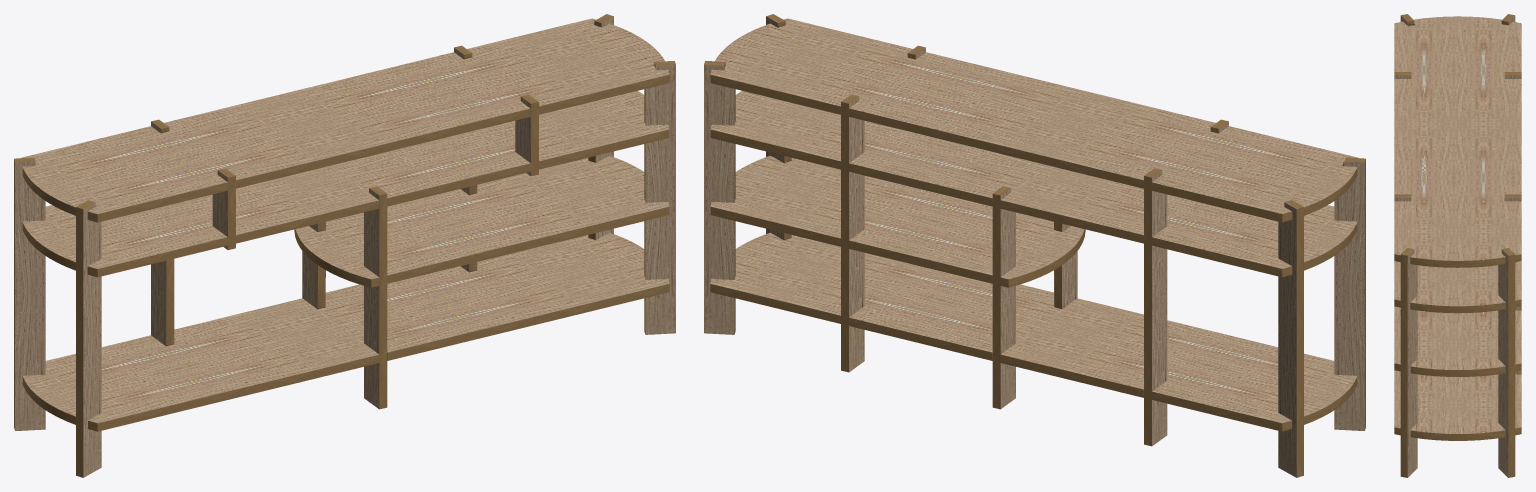
File: NODO_RACK_PARAISO_V2.glb
3 views of the same model, side by side, from view 1: azimuth 30°, elevation 25°; view 2: azimuth 150°, elevation 25°; view 3: azimuth 270°, elevation 25° (orthographic). The views are drawn at different scales.
Parts seen in each view (by area): view 1: A_KIRI, C_KIRI, B_KIRI, D_KIRI, G_right_front_KIRI, F_left_rear_KIRI, F_left_front_KIRI, H_front_KIRI, F_rear_KIRI, E_front_R_KIRI, E_front_L_KIRI, H_rear_KIRI; view 2: A_KIRI, C_KIRI, B_KIRI, D_KIRI, G_right_rear_KIRI, F_left_front_KIRI, F_left_rear_KIRI, F_rear_KIRI, G_rear_KIRI, H_rear_KIRI, H_front_KIRI; view 3: A_KIRI, C_KIRI, D_KIRI, B_KIRI, G_right_front_KIRI, G_right_rear_KIRI, G_rear_KIRI.
Part boxes in pixels (left/top/right/bottom): A_KIRI: left=21, top=18, right=669, bottom=222; C_KIRI: left=22, top=233, right=669, bottom=431; B_KIRI: left=22, top=91, right=669, bottom=277; D_KIRI: left=294, top=155, right=669, bottom=287; G_right_front_KIRI: left=644, top=61, right=675, bottom=334; F_left_rear_KIRI: left=14, top=157, right=45, bottom=430; F_left_front_KIRI: left=76, top=200, right=101, bottom=477; H_front_KIRI: left=364, top=186, right=387, bottom=409; F_rear_KIRI: left=151, top=119, right=174, bottom=346; E_front_R_KIRI: left=515, top=94, right=538, bottom=176; E_front_L_KIRI: left=212, top=168, right=235, bottom=249; H_rear_KIRI: left=302, top=221, right=325, bottom=309; A_KIRI: left=710, top=18, right=1358, bottom=222; C_KIRI: left=710, top=232, right=1357, bottom=431; B_KIRI: left=710, top=91, right=1357, bottom=277; D_KIRI: left=710, top=156, right=1085, bottom=287; G_right_rear_KIRI: left=704, top=61, right=735, bottom=334; F_left_front_KIRI: left=1334, top=157, right=1365, bottom=430; F_left_rear_KIRI: left=1278, top=200, right=1303, bottom=477; F_rear_KIRI: left=1144, top=168, right=1167, bottom=446; G_rear_KIRI: left=841, top=94, right=864, bottom=372; H_rear_KIRI: left=992, top=186, right=1015, bottom=409; H_front_KIRI: left=1054, top=221, right=1077, bottom=309; A_KIRI: left=1394, top=16, right=1521, bottom=267; C_KIRI: left=1394, top=370, right=1521, bottom=440; D_KIRI: left=1394, top=306, right=1521, bottom=376; B_KIRI: left=1394, top=261, right=1521, bottom=313; G_right_front_KIRI: left=1400, top=248, right=1417, bottom=477; G_right_rear_KIRI: left=1498, top=248, right=1515, bottom=477; G_rear_KIRI: left=1504, top=194, right=1521, bottom=374.
Size of the model in its own units: 1.36 by 0.578 by 0.3.
Materials: 2 (2 with a texture image).
